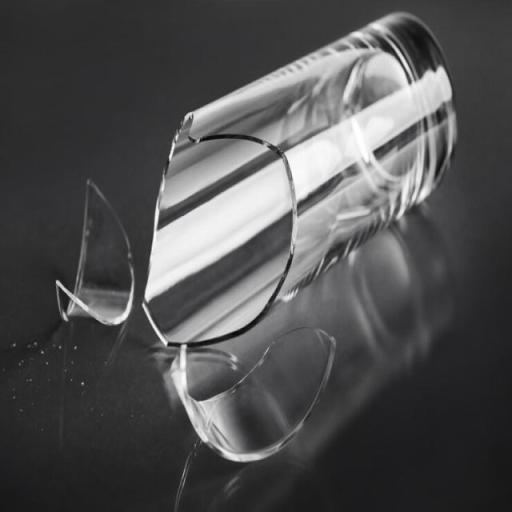glass: (137, 10, 476, 350), (171, 323, 333, 459), (56, 182, 134, 328)
